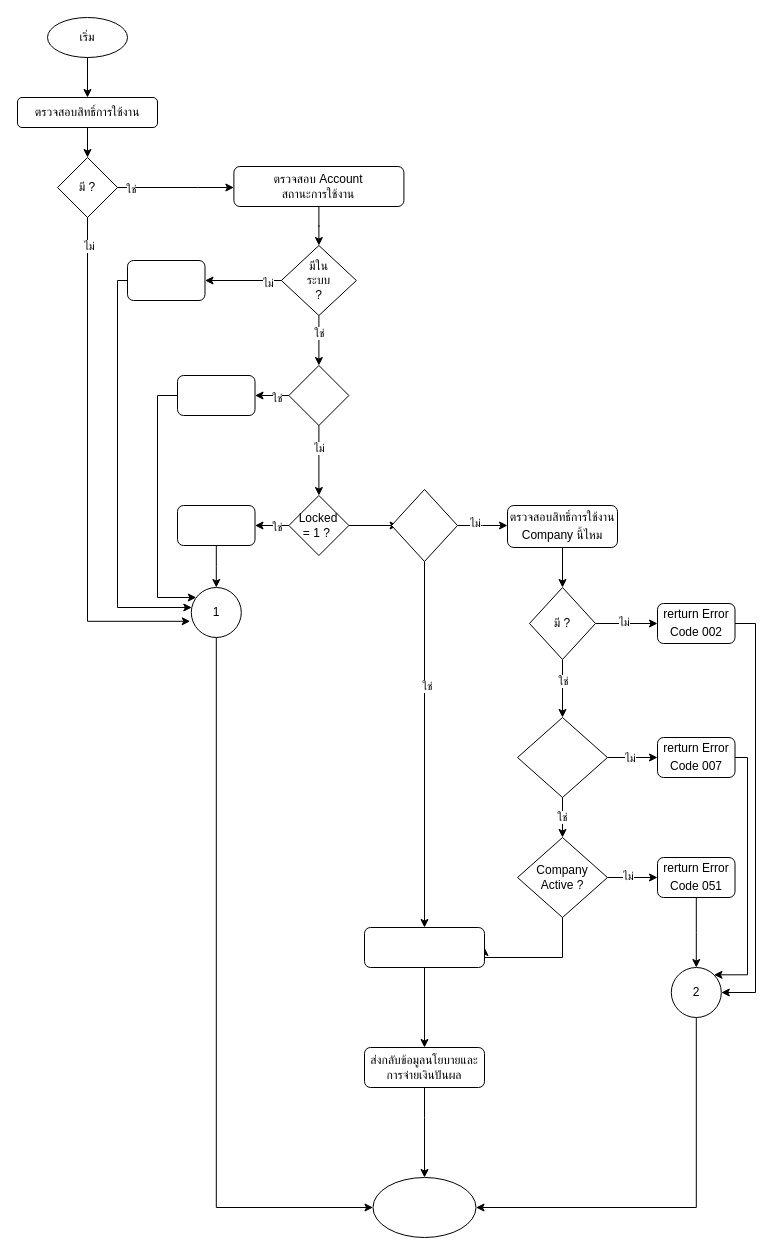
This 781x1255 diagram has some shape labels left out. Here are the shapes that lost their labels. From the top down, the centre of each, then its label:
[165,280]: rerturn Error Code 001
[215,395]: rerturn Error Code 004
[318,395]: status = 1 ?
[215,525]: rerturn Error Code 011
[424,525]: Super Admin ?
[562,757]: Company มีในระบบ ไหม ?
[424,947]: ดึงข้อมูลนโยบายและการจ่ายเงินปันผล
[424,1207]: สิ้นสุด
